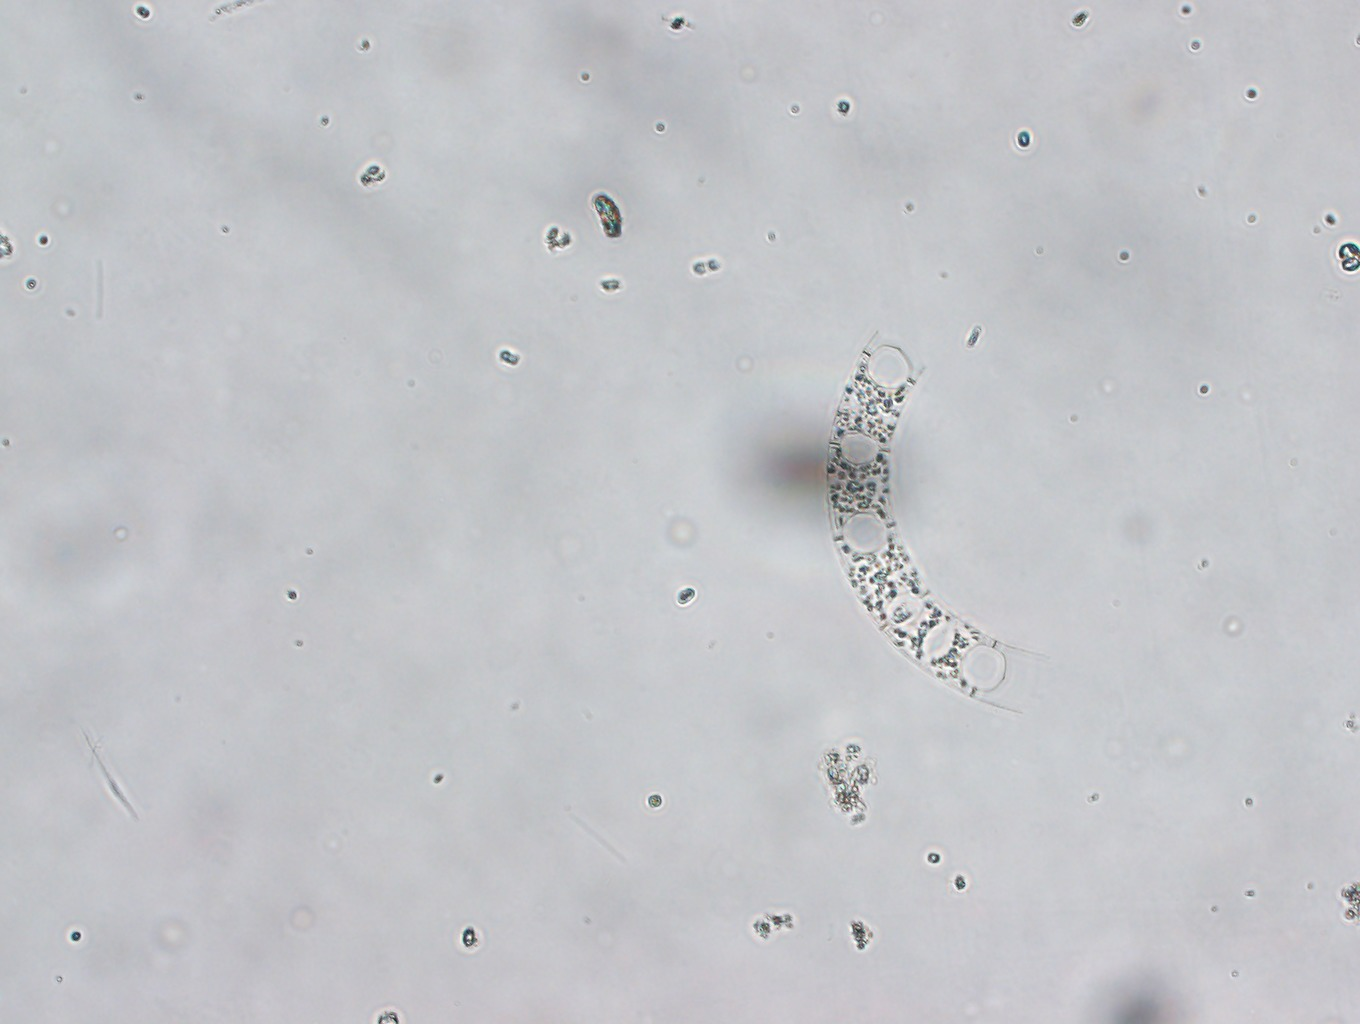eucampia: (820, 316, 1061, 724)
